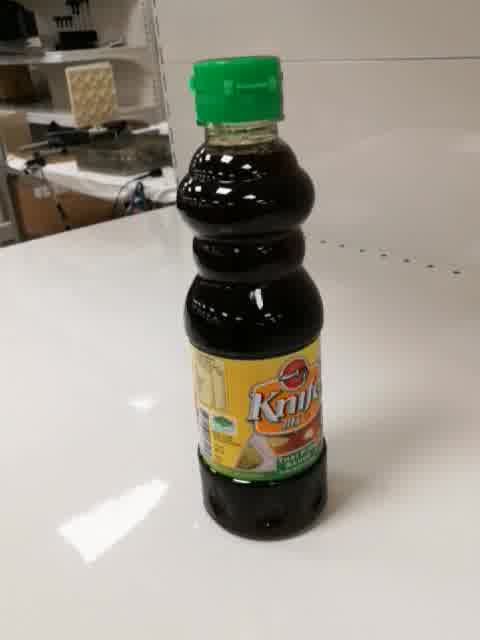cookingoil: (175, 50, 329, 545)
